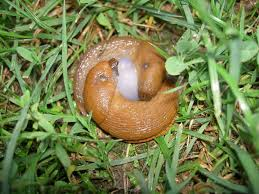slug: (85, 59, 175, 136), (75, 36, 165, 98)
